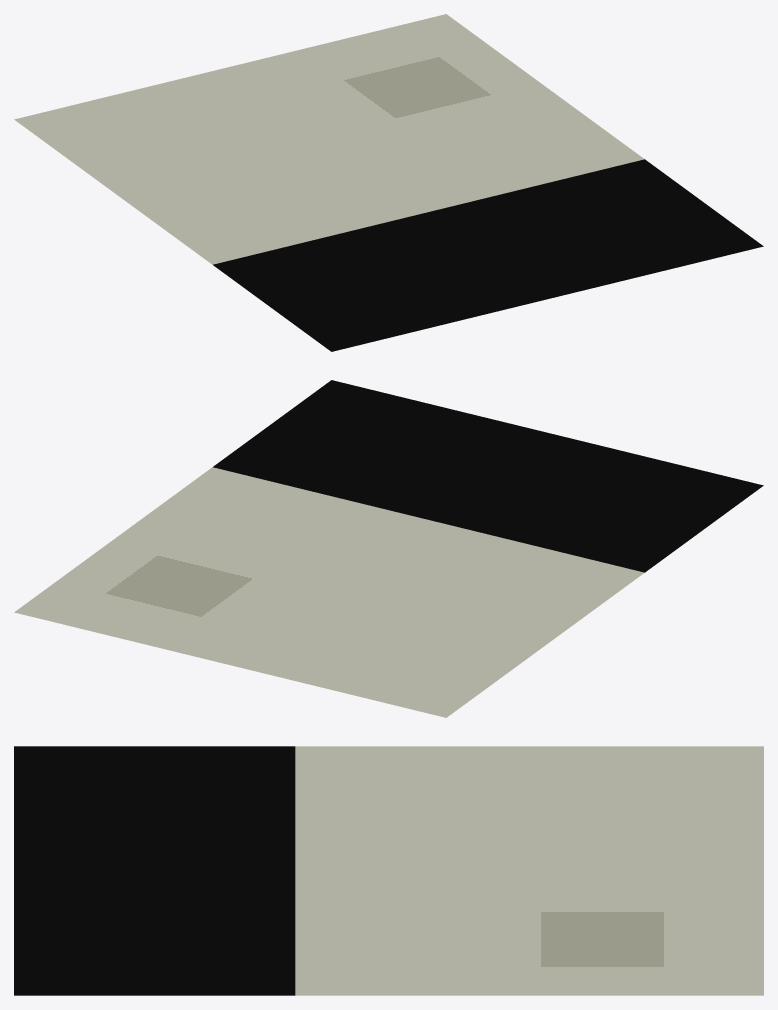
3 renders of one model, top to bottom at view 1: azimuth 30°, elevation 25°; view 2: azimuth 150°, elevation 25°; view 3: azimuth 270°, elevation 25°, orthographic. The views are drawn at different scales.
Bounding box in the file's own units: 0.7861 × 0 × 1.
2 materials, 1 textured.
